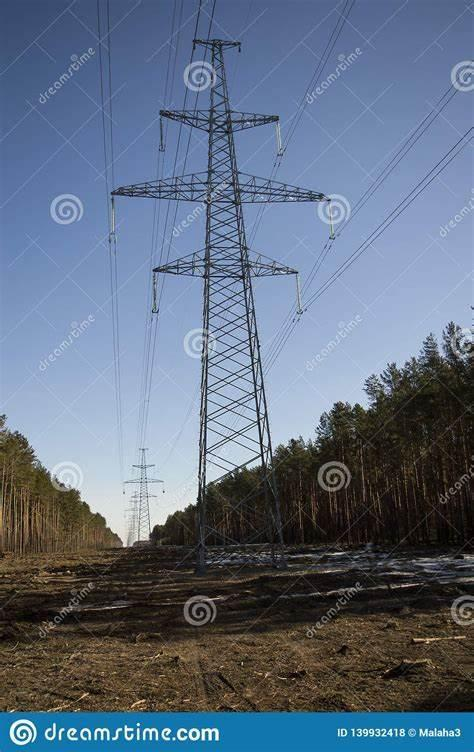power_tower: (119, 33, 336, 571), (122, 433, 173, 551)
